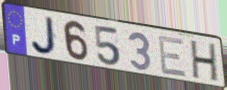3: (127, 31, 153, 73)
5: (92, 24, 123, 68)
6: (62, 19, 90, 64)
E: (156, 34, 188, 79)
H: (190, 39, 219, 84)
J: (29, 16, 59, 57)
